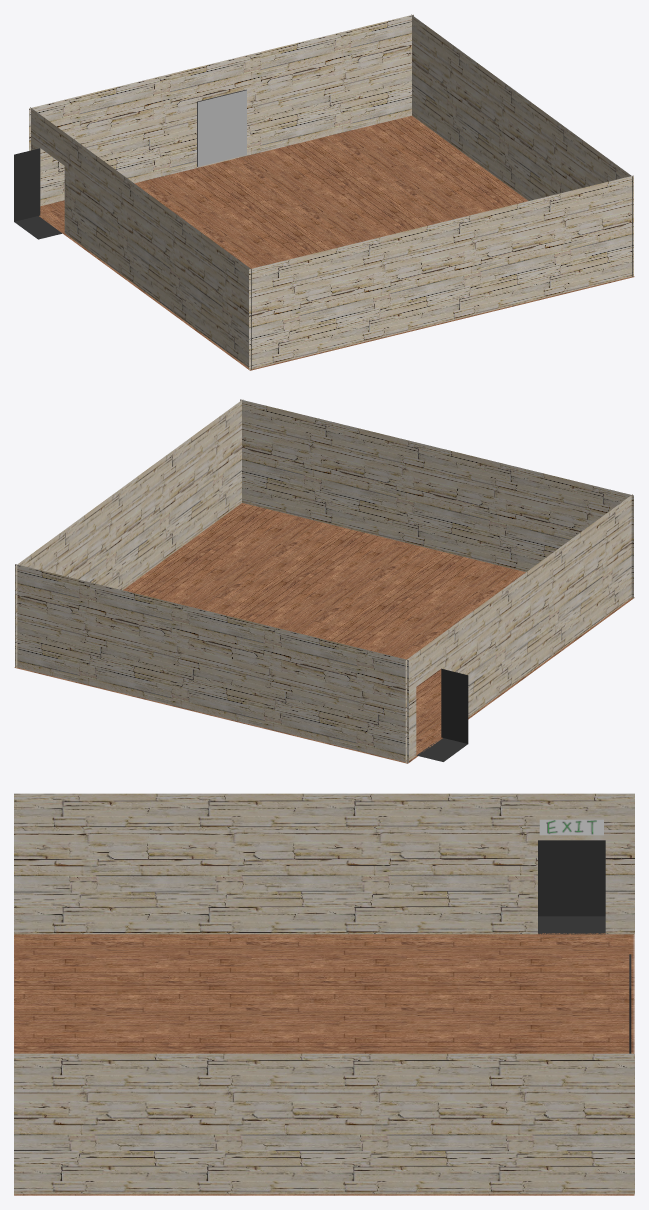
File: room01.fbx
3 renders of one model, top to bottom at view 1: azimuth 30°, elevation 25°; view 2: azimuth 150°, elevation 25°; view 3: azimuth 270°, elevation 25°, orthographic. The views are drawn at different scales.
Visible parts, largest first — view 1: Wall00, Floor00, Mirror; view 2: Wall00, Floor00; view 3: Wall00, Floor00, Exit.
Part boxes in pixels (<box>): Wall00: <box>14,14,633,369</box>; Floor00: <box>39,115,634,370</box>; Mirror: <box>197,89,246,166</box>; Wall00: <box>15,399,633,762</box>; Floor00: <box>14,503,634,763</box>; Wall00: <box>14,793,634,1194</box>; Floor00: <box>14,933,634,1195</box>; Exit: <box>539,819,603,835</box>.
Bounding box in the file's own units: 1653 × 388 × 1554.
6 materials, 3 textured.
